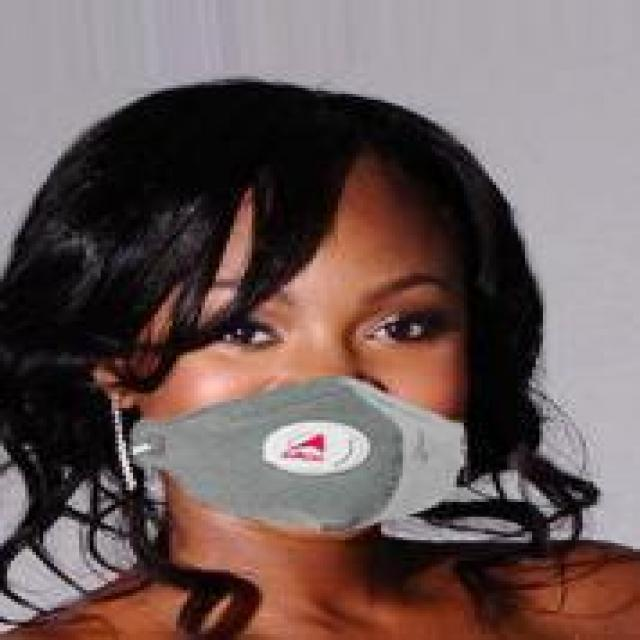mask: (79, 100, 503, 537)
